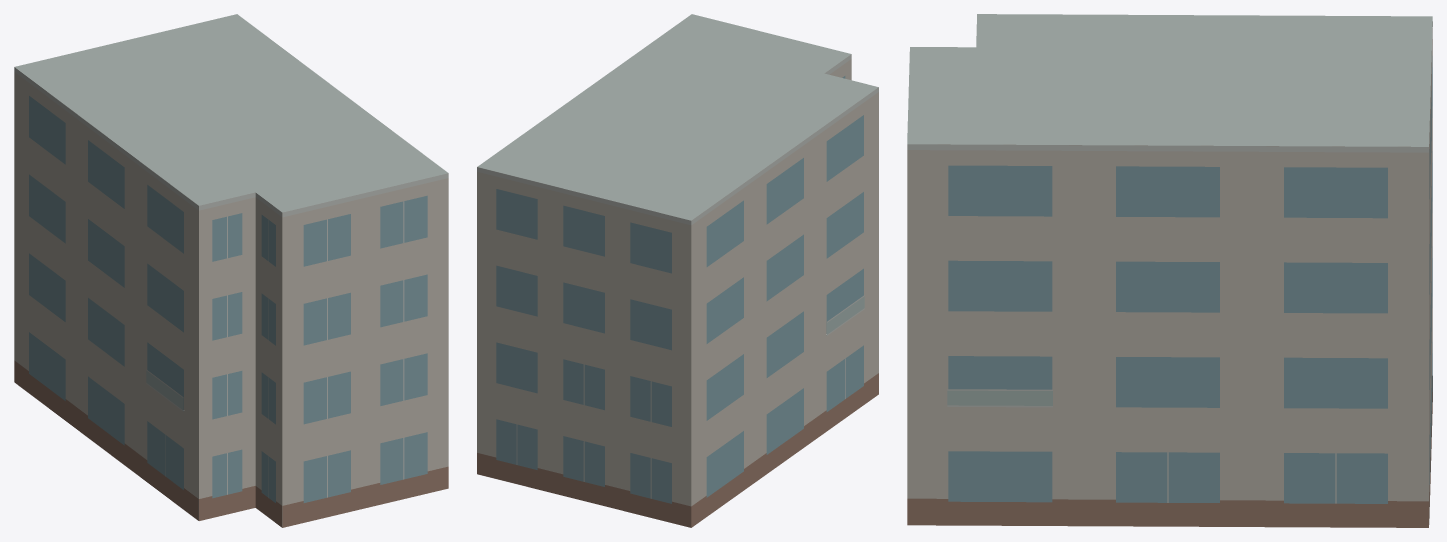
Rendered from survey-upis-32761513.glb.
The picture shows the model from 3 angles, left to right: view 1: azimuth 30°, elevation 25°; view 2: azimuth 150°, elevation 25°; view 3: azimuth 270°, elevation 25°; orthographic projection. The views are drawn at different scales.
Visible parts, largest first — view 1: survey-upis-32761513.tmp; view 2: survey-upis-32761513.tmp; view 3: survey-upis-32761513.tmp.
Part boxes in pixels (bbox=[...]): survey-upis-32761513.tmp: bbox=[14, 14, 448, 527]; survey-upis-32761513.tmp: bbox=[477, 14, 878, 527]; survey-upis-32761513.tmp: bbox=[907, 14, 1432, 527].
Size of the model in its own units: 12.02 by 16.03 by 20.05.
